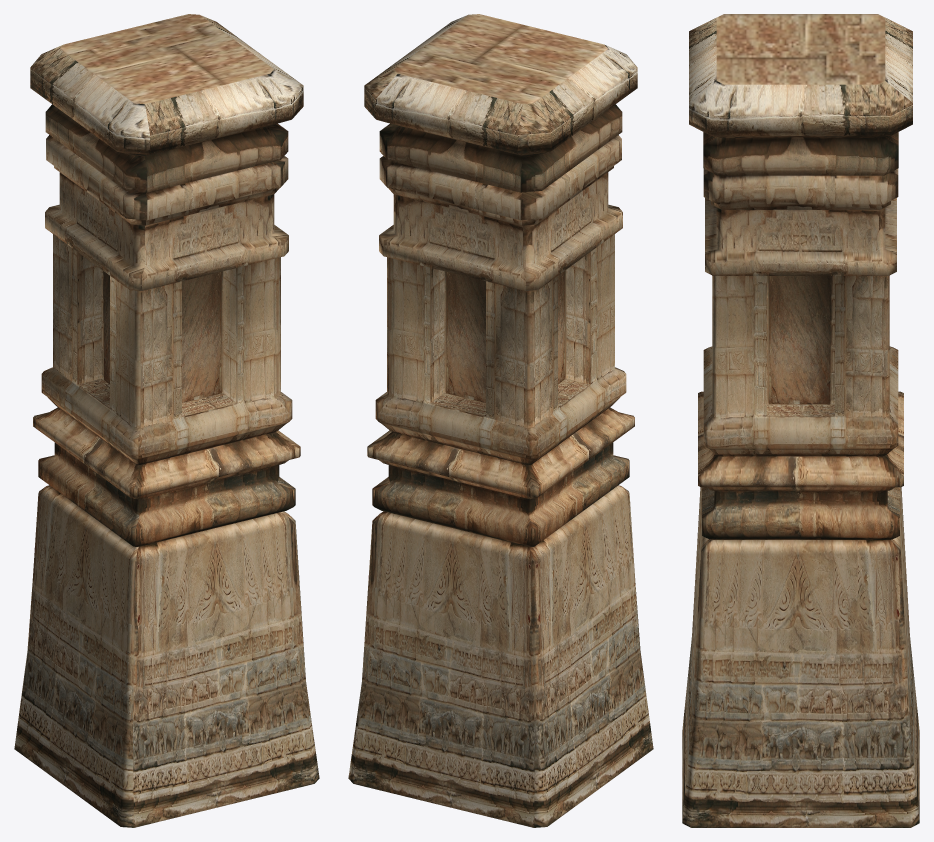
The model's file is tower_column.fbx.
3 renders of one model, left to right at view 1: azimuth 30°, elevation 25°; view 2: azimuth 150°, elevation 25°; view 3: azimuth 270°, elevation 25°, orthographic. The views are drawn at different scales.
Visible parts, largest first — view 1: Mesh; view 2: Mesh; view 3: Mesh.
Boxes of the visible parts, x1,y1,x2,y2 form: Mesh: [14, 14, 319, 827]; Mesh: [348, 14, 653, 827]; Mesh: [682, 14, 919, 827].
Size of the model in its own units: 443 by 1501 by 443.
